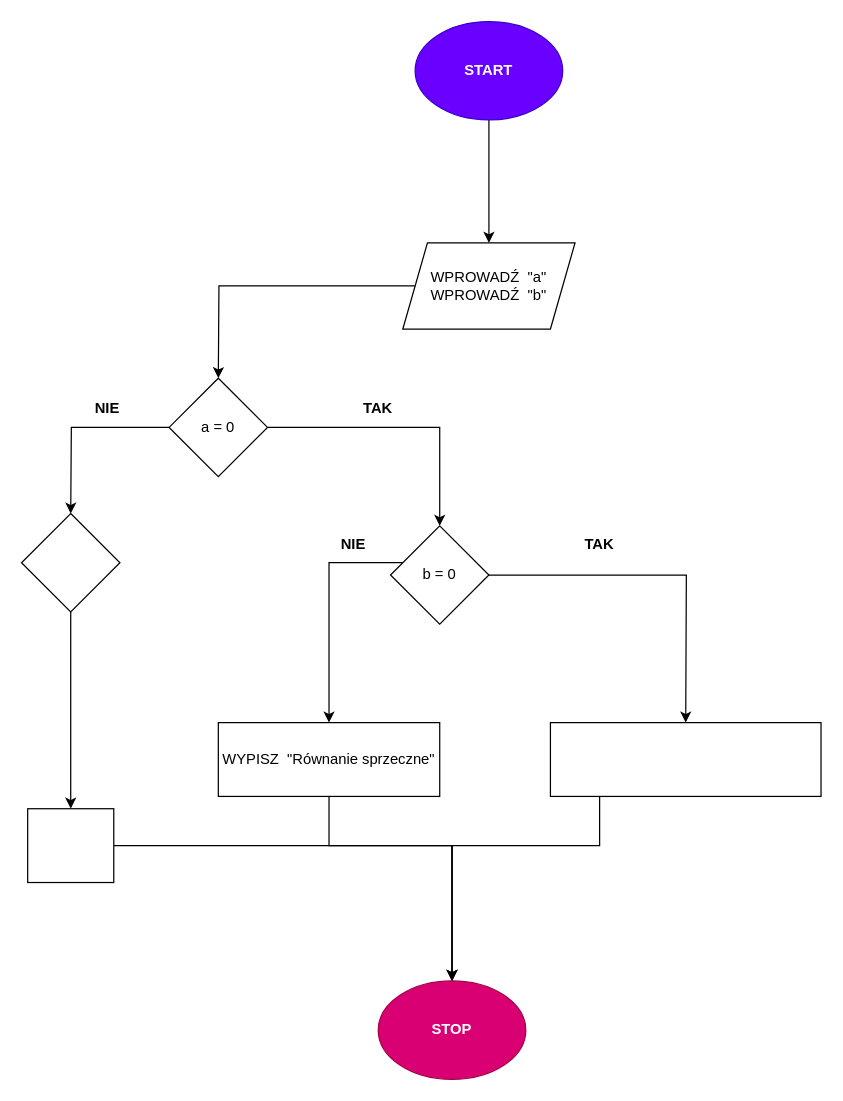
This 843x1101 diagram has some shape labels left out. Each missing label, with the centre of its shape:
WYPISZ "Równanie tożsamościowe": the point at 685,758
WYPISZ "x": the point at 70,845
x = -b / a: the point at 70,562
